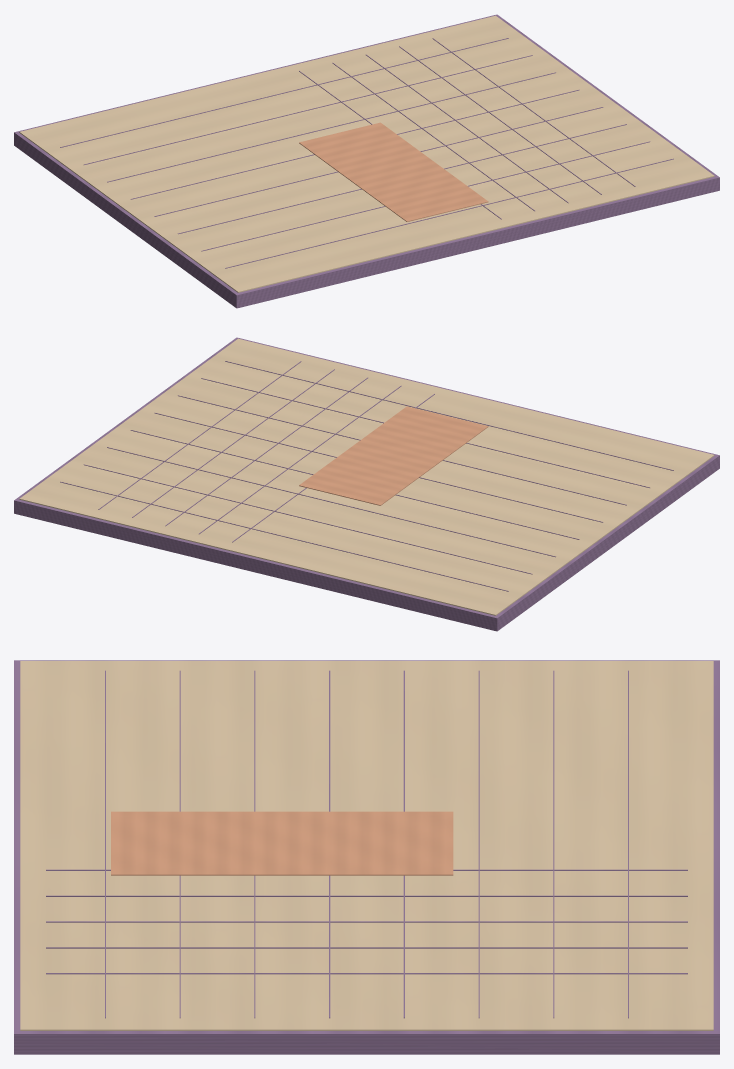
The model's file is atlas100-s086-a07.lod2.glb.
3 renders of one model, top to bottom at view 1: azimuth 30°, elevation 25°; view 2: azimuth 150°, elevation 25°; view 3: azimuth 270°, elevation 25°, orthographic. The views are drawn at different scales.
Parts seen in each view (by area): view 1: atlas100-s086-a07:part-001, atlas100-s086-a07:part-000, atlas100-s086-a07:part-021, atlas100-s086-a07:part-014, atlas100-s086-a07:part-013, atlas100-s086-a07:part-015, atlas100-s086-a07:part-020, atlas100-s086-a07:part-017, atlas100-s086-a07:part-019, atlas100-s086-a07:part-016, atlas100-s086-a07:part-018; view 2: atlas100-s086-a07:part-001, atlas100-s086-a07:part-000, atlas100-s086-a07:part-021, atlas100-s086-a07:part-014, atlas100-s086-a07:part-013, atlas100-s086-a07:part-020, atlas100-s086-a07:part-015, atlas100-s086-a07:part-016, atlas100-s086-a07:part-019, atlas100-s086-a07:part-017, atlas100-s086-a07:part-018; view 3: atlas100-s086-a07:part-001, atlas100-s086-a07:part-000, atlas100-s086-a07:part-021, atlas100-s086-a07:part-009, atlas100-s086-a07:part-010, atlas100-s086-a07:part-011, atlas100-s086-a07:part-012, atlas100-s086-a07:part-014, atlas100-s086-a07:part-015.
Boxes of the visible parts, bbox=[...] form: atlas100-s086-a07:part-001: bbox=[19, 15, 714, 292]; atlas100-s086-a07:part-000: bbox=[14, 14, 719, 308]; atlas100-s086-a07:part-021: bbox=[299, 122, 488, 221]; atlas100-s086-a07:part-014: bbox=[84, 55, 532, 164]; atlas100-s086-a07:part-013: bbox=[60, 38, 508, 147]; atlas100-s086-a07:part-015: bbox=[107, 72, 555, 182]; atlas100-s086-a07:part-020: bbox=[225, 158, 673, 268]; atlas100-s086-a07:part-017: bbox=[154, 107, 603, 216]; atlas100-s086-a07:part-019: bbox=[201, 141, 650, 251]; atlas100-s086-a07:part-016: bbox=[130, 89, 579, 199]; atlas100-s086-a07:part-018: bbox=[178, 124, 626, 234]; atlas100-s086-a07:part-001: bbox=[19, 338, 714, 615]; atlas100-s086-a07:part-000: bbox=[14, 337, 719, 631]; atlas100-s086-a07:part-021: bbox=[299, 406, 488, 505]; atlas100-s086-a07:part-014: bbox=[83, 464, 532, 574]; atlas100-s086-a07:part-013: bbox=[60, 481, 508, 591]; atlas100-s086-a07:part-020: bbox=[225, 361, 673, 470]; atlas100-s086-a07:part-015: bbox=[107, 447, 555, 557]; atlas100-s086-a07:part-016: bbox=[130, 430, 579, 539]; atlas100-s086-a07:part-019: bbox=[201, 378, 649, 487]; atlas100-s086-a07:part-017: bbox=[154, 412, 603, 522]; atlas100-s086-a07:part-018: bbox=[178, 395, 626, 505]; atlas100-s086-a07:part-001: bbox=[20, 661, 713, 1030]; atlas100-s086-a07:part-000: bbox=[14, 660, 719, 1054]; atlas100-s086-a07:part-021: bbox=[111, 811, 453, 875]; atlas100-s086-a07:part-009: bbox=[46, 895, 687, 896]; atlas100-s086-a07:part-010: bbox=[46, 921, 687, 922]; atlas100-s086-a07:part-011: bbox=[46, 947, 687, 948]; atlas100-s086-a07:part-012: bbox=[46, 973, 687, 974]; atlas100-s086-a07:part-014: bbox=[553, 670, 554, 1018]; atlas100-s086-a07:part-015: bbox=[478, 670, 479, 1018].
Size of the model in its own units: 13.02 by 0.404 by 10.4.
Materials: 3 (3 with a texture image).
